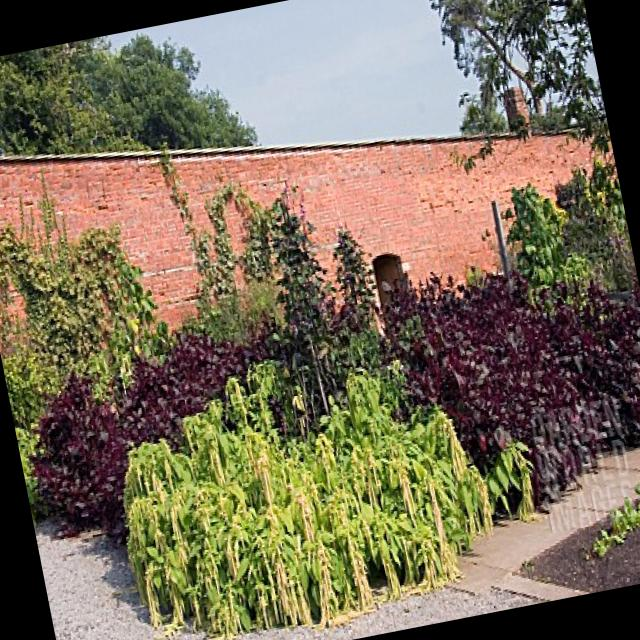Medicinal-Arive Dantu: (270, 423, 476, 628), (0, 186, 108, 349)
